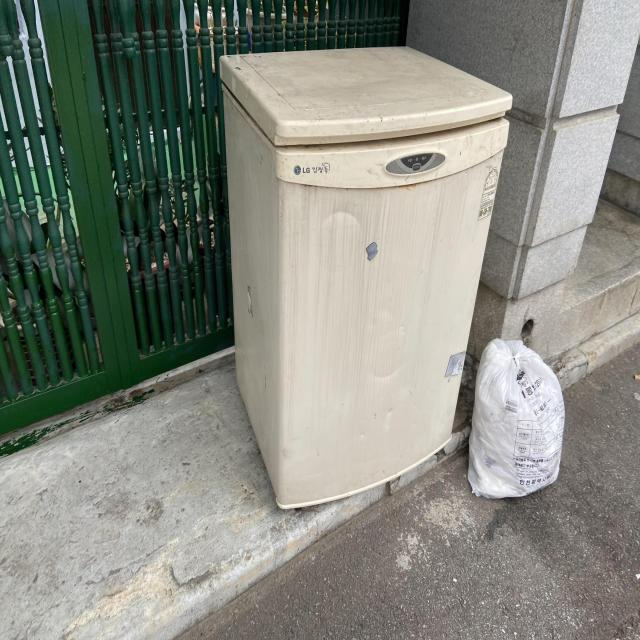refrigerator: (217, 38, 513, 512)
